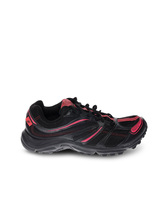shoes: (20, 99, 151, 157)
